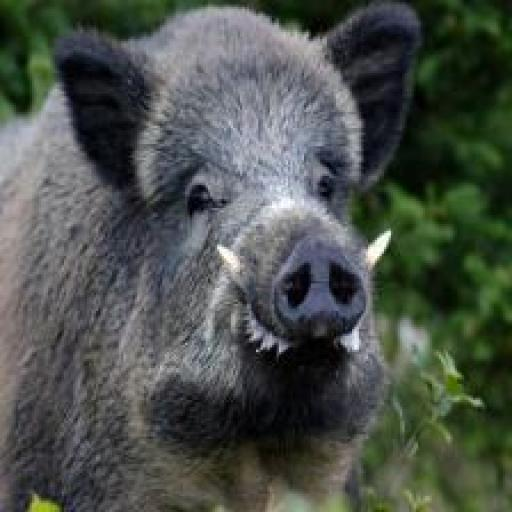Pig: (0, 0, 427, 512)
